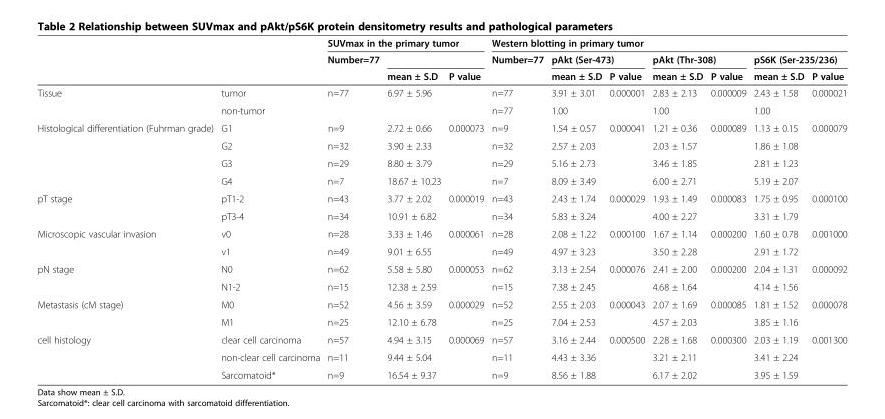table: (36, 36, 846, 380)
table column: (36, 36, 216, 380), (216, 36, 323, 380), (382, 36, 444, 380), (323, 36, 382, 380), (487, 36, 546, 380), (546, 36, 605, 380), (648, 36, 706, 380), (749, 36, 807, 380), (444, 36, 487, 380), (605, 36, 648, 380), (706, 36, 749, 380), (807, 36, 846, 380)
table column header: (36, 36, 846, 84)
table row: (36, 118, 846, 136), (36, 136, 846, 154), (36, 171, 846, 189), (36, 189, 846, 207), (36, 224, 846, 242), (36, 259, 846, 277), (36, 277, 846, 295), (36, 312, 846, 330), (36, 330, 846, 348), (36, 50, 846, 67), (36, 67, 846, 84), (36, 84, 846, 101), (36, 101, 846, 118), (36, 154, 846, 171), (36, 207, 846, 224), (36, 242, 846, 259), (36, 295, 846, 312), (36, 348, 846, 365), (36, 365, 846, 380), (36, 36, 846, 50)
table spanning cell: (36, 118, 216, 189), (36, 330, 216, 380), (36, 259, 216, 295), (36, 189, 216, 224), (36, 224, 216, 259), (36, 295, 216, 330), (36, 84, 216, 118), (487, 36, 846, 50), (444, 118, 487, 189), (605, 118, 648, 189), (706, 118, 749, 189), (807, 118, 846, 189), (323, 36, 487, 50), (444, 330, 487, 380), (605, 330, 648, 380), (706, 330, 749, 380), (382, 50, 444, 84), (323, 50, 382, 84), (487, 50, 546, 84), (807, 330, 846, 380), (546, 50, 648, 67), (648, 50, 749, 67), (749, 50, 846, 67), (444, 259, 487, 295), (605, 259, 648, 295), (706, 259, 749, 295), (444, 189, 487, 224), (605, 189, 648, 224), (706, 189, 749, 224), (444, 224, 487, 259), (605, 224, 648, 259), (706, 224, 749, 259), (444, 295, 487, 330), (605, 295, 648, 330), (706, 295, 749, 330), (605, 84, 648, 118), (706, 84, 749, 118), (444, 50, 487, 84), (807, 259, 846, 295), (807, 189, 846, 224), (807, 224, 846, 259), (807, 295, 846, 330), (807, 84, 846, 118)
